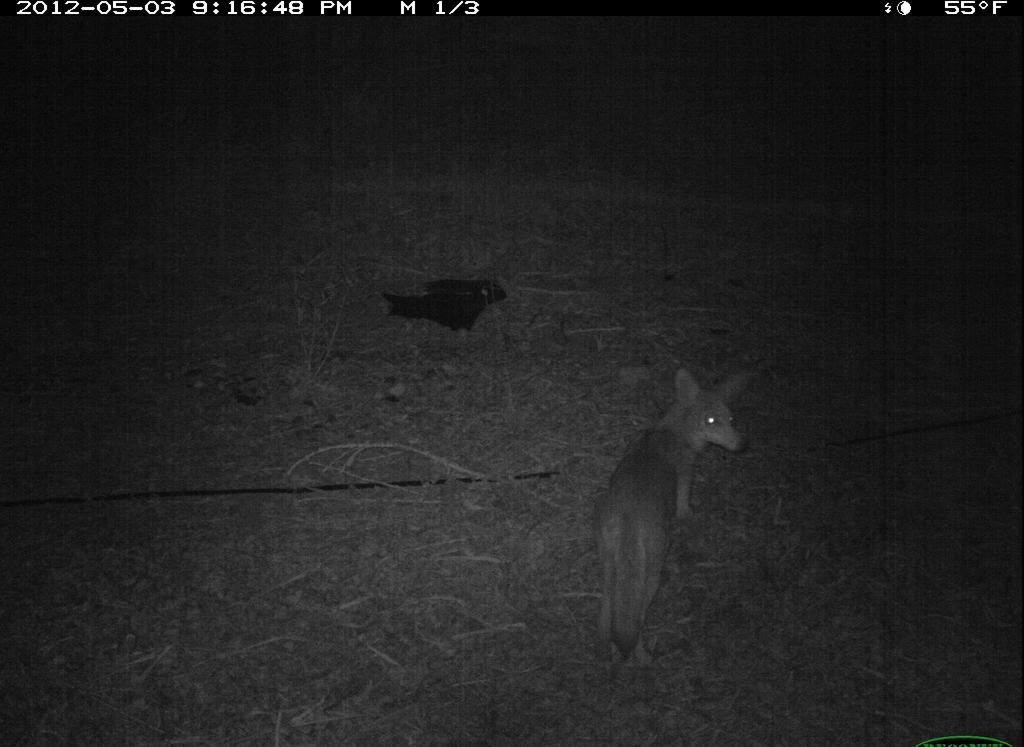coyote: (591, 360, 754, 674)
